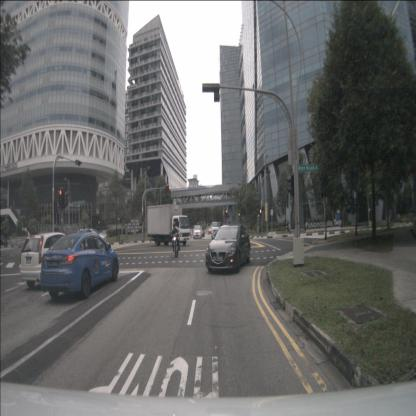human-pedestrian-adult: (288, 222, 290, 233)
vehicle-car: (40, 232, 120, 300), (20, 232, 76, 288), (205, 224, 251, 274), (78, 228, 106, 251), (211, 221, 220, 240), (193, 225, 202, 240), (197, 226, 205, 238), (0, 235, 8, 247), (208, 228, 213, 235)
vehicle-motorcycle: (170, 222, 180, 258)
vehicle-truck: (146, 203, 191, 247)
